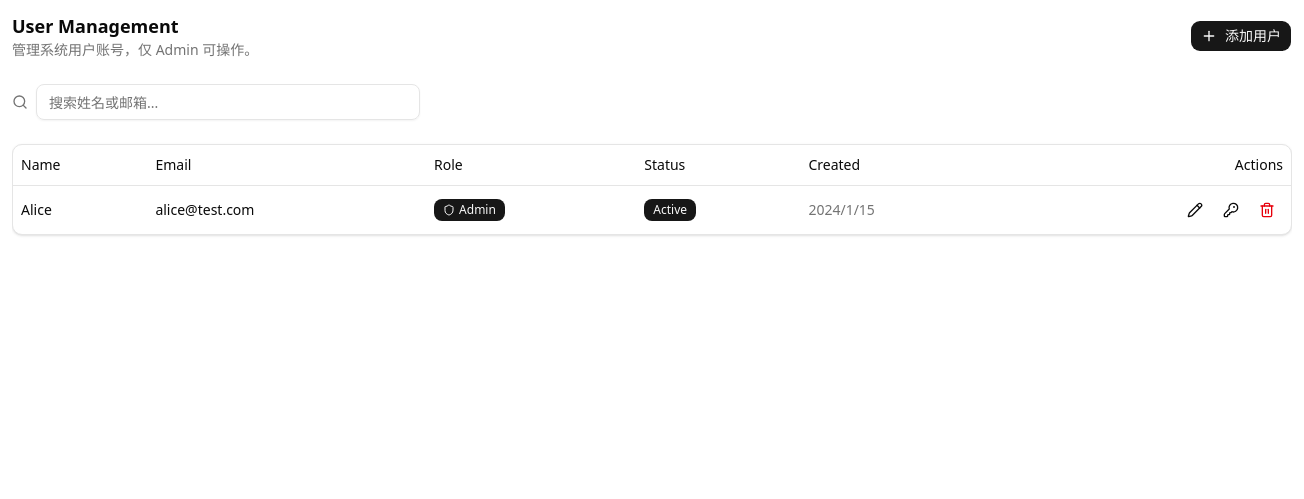
Test: UsersPage › opens edit form with user data pre-filled
The width and height of the screenshot is (1304, 499).
expect the text "Alice" is shown: met, box [13,185,147,234]
Click the button titled "编辑" at (1195, 210), box [1179,194,1211,226]
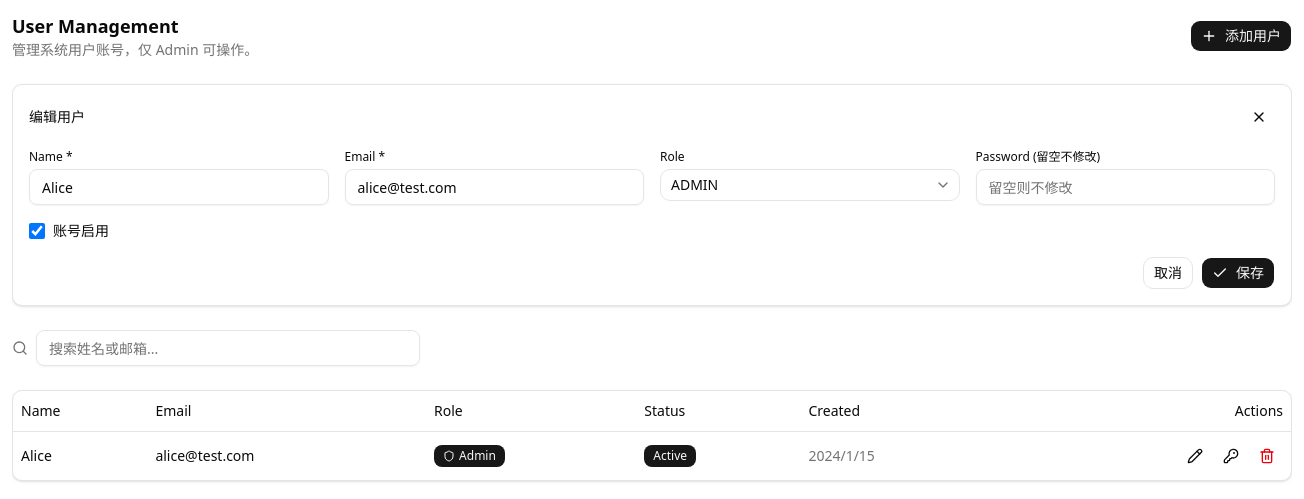
expect the heading "编辑用户" is shown: met, box [29,107,85,127]
expect the field showing "Alice" below "Name *" holds "Alice": met, box [29,169,328,205]
expect the field showing "alice@test.com" below "Email *" holds "alice@test.com": met, box [344,169,644,205]
